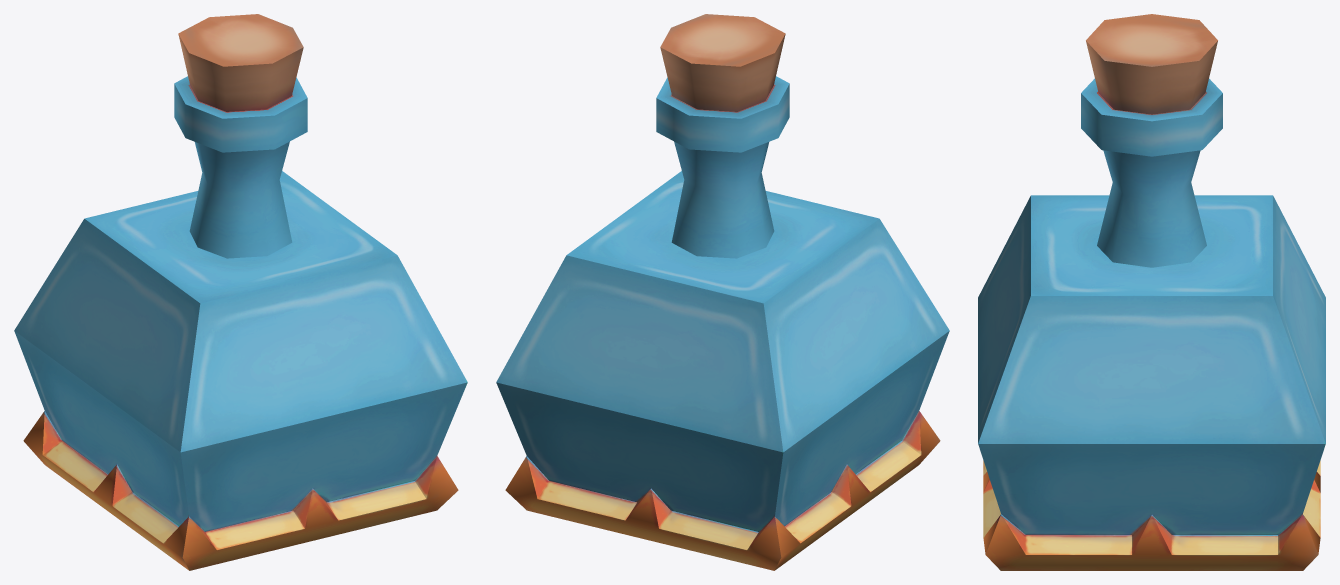
The model's file is potion-2.glb.
The picture shows the model from 3 angles, left to right: view 1: azimuth 30°, elevation 25°; view 2: azimuth 150°, elevation 25°; view 3: azimuth 270°, elevation 25°; orthographic projection. The views are drawn at different scales.
Parts seen in each view (by area): view 1: potion_2.001_Plane.007; view 2: potion_2.001_Plane.007; view 3: potion_2.001_Plane.007.
Part boxes in pixels (<box>): potion_2.001_Plane.007: <box>14,14,467,570</box>; potion_2.001_Plane.007: <box>496,14,949,570</box>; potion_2.001_Plane.007: <box>978,14,1325,570</box>.
Bounding box in the file's own units: 0.7711 × 1.15 × 0.7742.
1 material, 1 textured.
